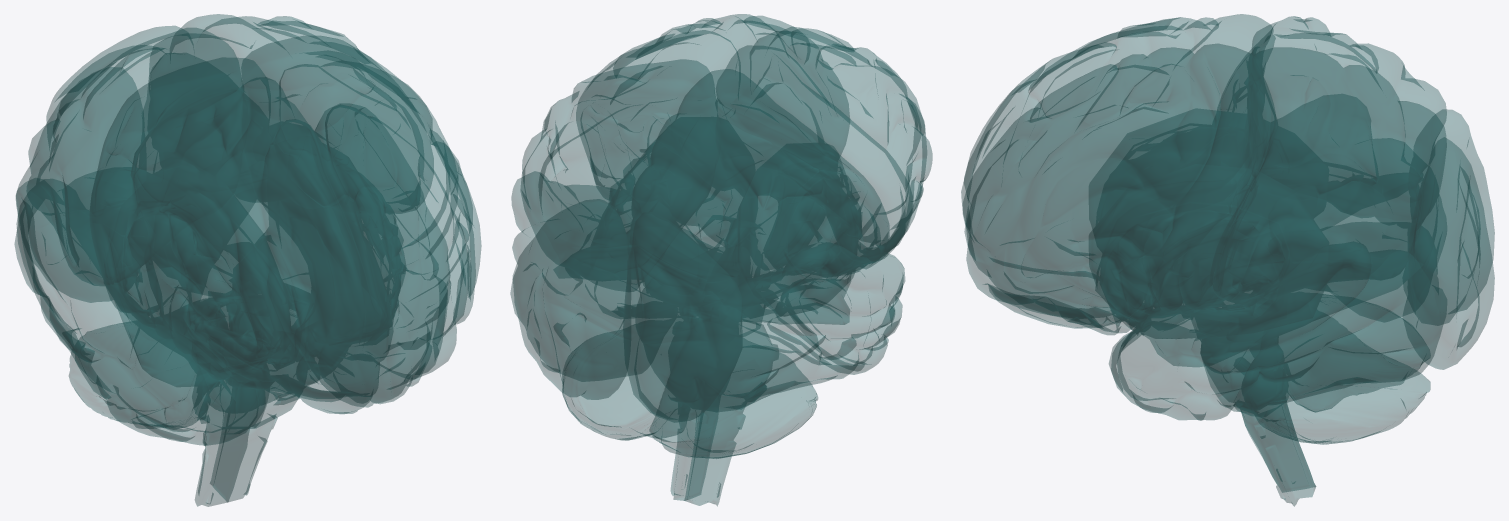
The model's file is Transperent Full Brain.gltf.
The picture shows the model from 3 angles, left to right: view 1: azimuth 30°, elevation 25°; view 2: azimuth 150°, elevation 25°; view 3: azimuth 270°, elevation 25°; orthographic projection. The views are drawn at different scales.
Parts seen in each view (by area): view 1: Frontal_Lobe_Right, Frontal_Lobe_Left, Nervous_Brain_Stem, Parietal_Lobe_Right, Temporal_Lobe_Right, Parietal_Lobe_Left, Temporal_Lobe_Left, Occipital_Lob_Right, Nervous_Full_Cerebellum_1; view 2: Parietal_Lobe_Right, Frontal_Lobe_Right, Temporal_Lobe_Right, Parietal_Lobe_Left, Nervous_Brain_Stem, Frontal_Lobe_Left, Occipital_Lob_Right, Occipital_Lob_Left, Temporal_Lobe_Left, Nervous_Full_Cerebellum_1, Nervous_Full_Cerebellum_2; view 3: Frontal_Lobe_Left, Frontal_Lobe_Right, Parietal_Lobe_Left, Nervous_Brain_Stem, Temporal_Lobe_Left, Parietal_Lobe_Right, Nervous_Full_Cerebellum_2, Occipital_Lob_Left, Occipital_Lob_Right, Temporal_Lobe_Right, Nervous_Full_Cerebellum_1.
Part boxes in pixels (<box>): Frontal_Lobe_Right: <box>90,57,393,413</box>; Frontal_Lobe_Left: <box>242,36,481,407</box>; Nervous_Brain_Stem: <box>120,143,406,506</box>; Parietal_Lobe_Right: <box>26,26,242,285</box>; Temporal_Lobe_Right: <box>14,177,265,445</box>; Parietal_Lobe_Left: <box>149,14,433,213</box>; Temporal_Lobe_Left: <box>212,121,450,403</box>; Occipital_Lob_Right: <box>16,67,143,302</box>; Nervous_Full_Cerebellum_1: <box>69,299,215,428</box>; Parietal_Lobe_Right: <box>630,69,889,306</box>; Frontal_Lobe_Right: <box>716,27,932,268</box>; Temporal_Lobe_Right: <box>635,242,905,412</box>; Parietal_Lobe_Left: <box>520,59,721,284</box>; Nervous_Brain_Stem: <box>603,141,861,506</box>; Frontal_Lobe_Left: <box>576,14,849,244</box>; Occipital_Lob_Right: <box>623,212,742,422</box>; Occipital_Lob_Left: <box>513,199,630,399</box>; Temporal_Lobe_Left: <box>510,171,707,381</box>; Nervous_Full_Cerebellum_1: <box>649,321,817,458</box>; Nervous_Full_Cerebellum_2: <box>562,316,697,440</box>; Frontal_Lobe_Left: <box>963,43,1277,334</box>; Frontal_Lobe_Right: <box>961,14,1275,313</box>; Parietal_Lobe_Left: <box>1209,47,1446,304</box>; Nervous_Brain_Stem: <box>1089,123,1328,506</box>; Temporal_Lobe_Left: <box>1109,222,1446,420</box>; Parietal_Lobe_Right: <box>1217,16,1446,220</box>; Nervous_Full_Cerebellum_2: <box>1241,315,1430,444</box>; Occipital_Lob_Left: <box>1402,137,1494,369</box>; Occipital_Lob_Right: <box>1414,109,1494,323</box>; Temporal_Lobe_Right: <box>1125,100,1446,322</box>; Nervous_Full_Cerebellum_1: <box>1283,294,1429,412</box>.
Bounding box in the file's own units: 12.74 × 15.71 × 16.57.
